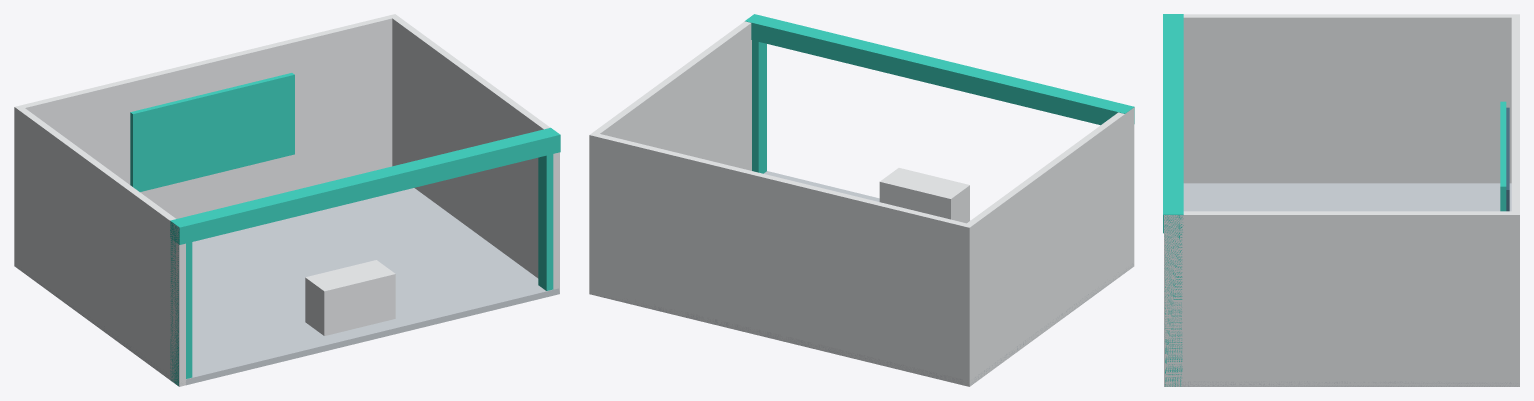
3 renders of one model, left to right at view 1: azimuth 30°, elevation 25°; view 2: azimuth 150°, elevation 25°; view 3: azimuth 270°, elevation 25°, orthographic. The views are drawn at different scales.
Parts seen in each view (by area): view 1: Exhibition Booth Concept; view 2: Exhibition Booth Concept; view 3: Exhibition Booth Concept.
Part boxes in pixels (x1,y1,x2,y2): Exhibition Booth Concept: (14,14,560,386); Exhibition Booth Concept: (589,14,1134,386); Exhibition Booth Concept: (1163,14,1519,386).
Bounding box in the file's own units: 8 × 3.2 × 6.02.
